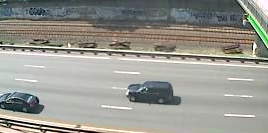car: (123, 79, 178, 107), (1, 89, 41, 117)
